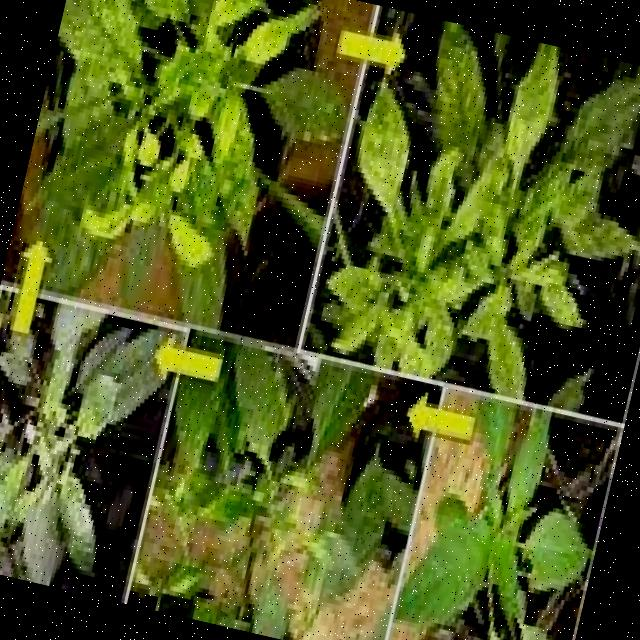yellow: (35, 0, 338, 343)
